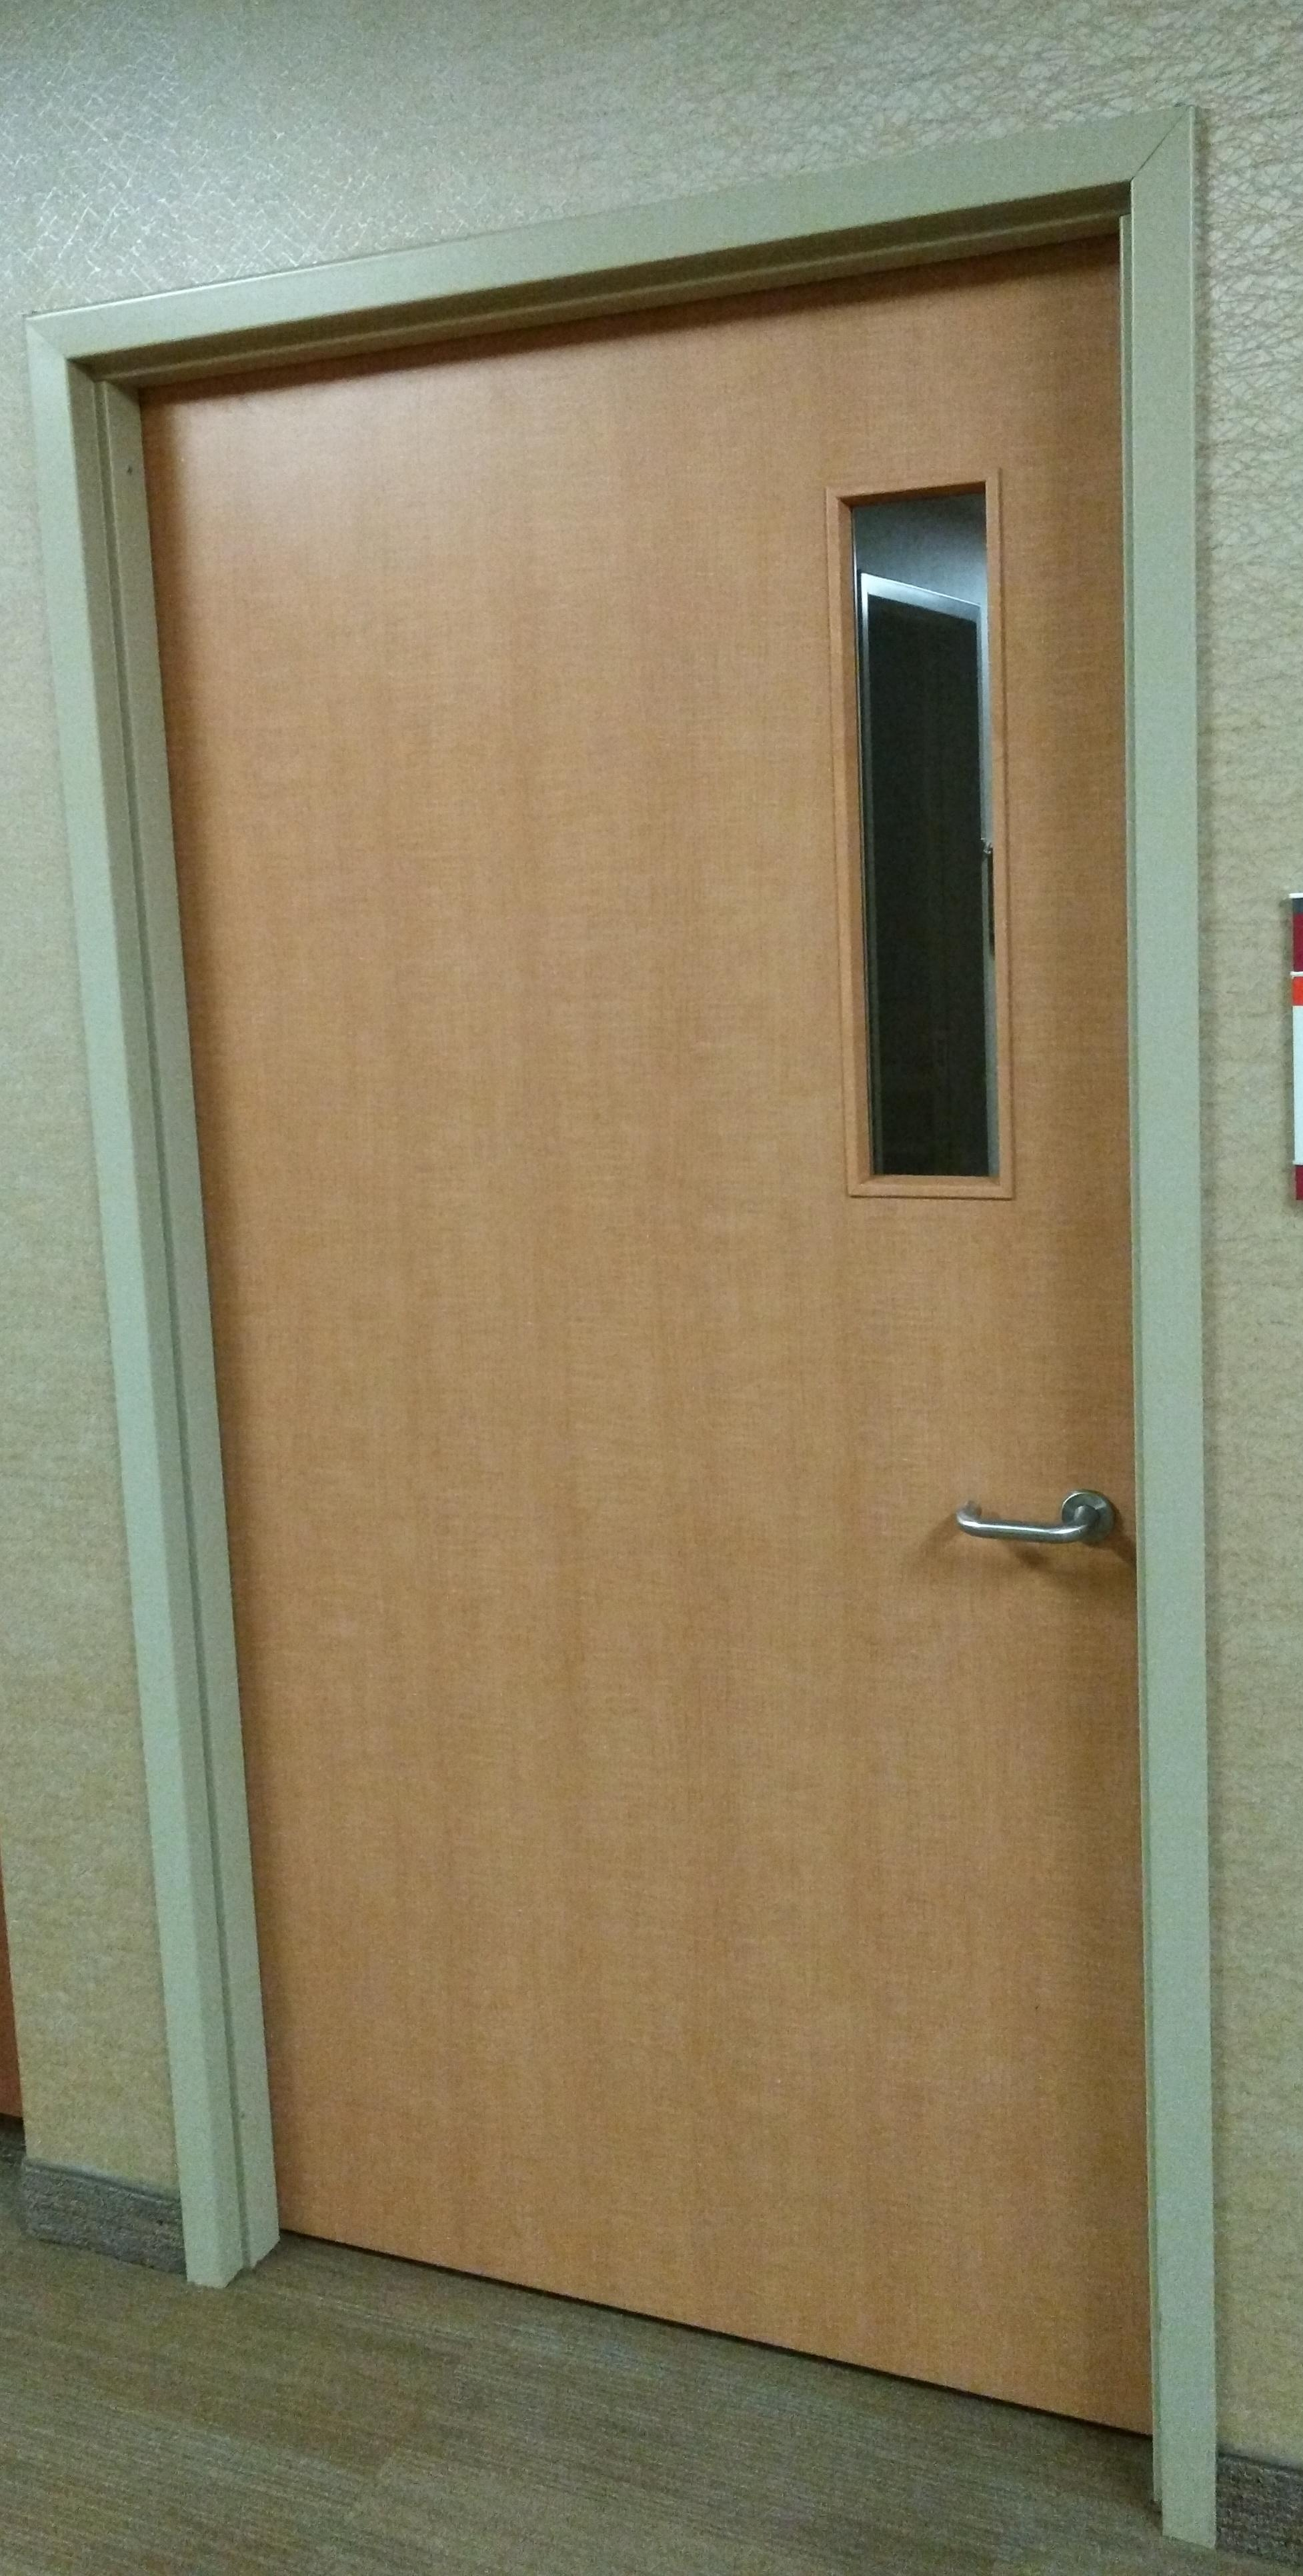door: (18, 184, 1251, 2490)
